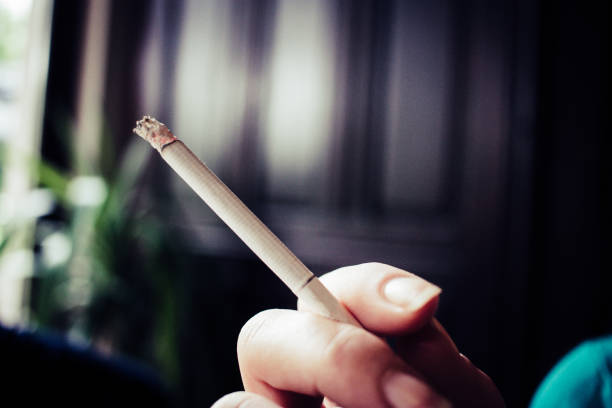cigarette: (132, 115, 365, 331)
